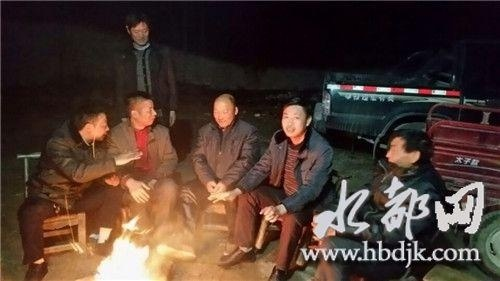fire: (94, 212, 161, 280), (125, 17, 150, 43)
